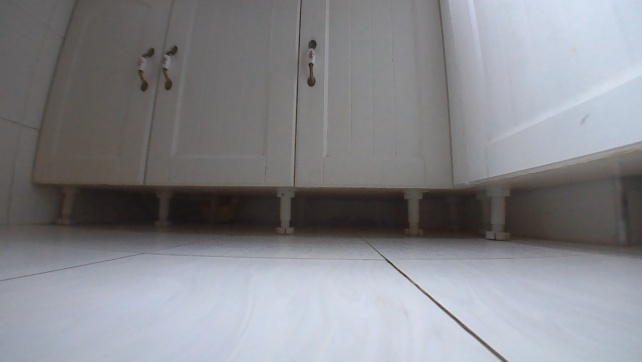cupboard1: (22, 0, 641, 245)
